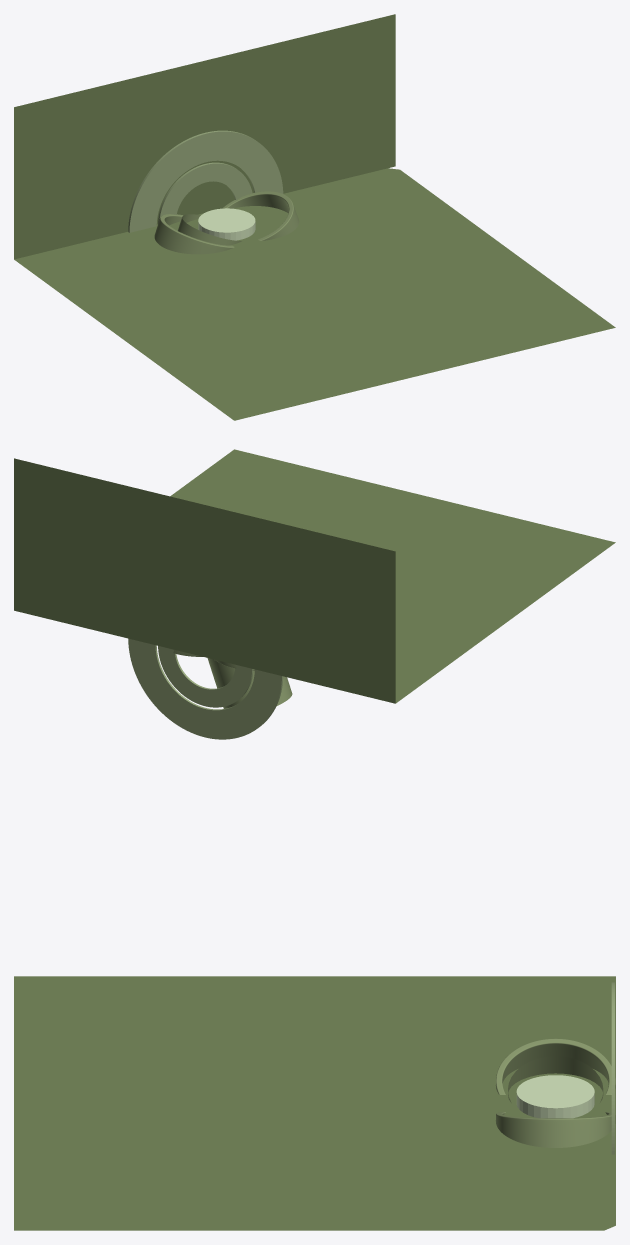
File: studio_24.glb
3 renders of one model, top to bottom at view 1: azimuth 30°, elevation 25°; view 2: azimuth 150°, elevation 25°; view 3: azimuth 270°, elevation 25°, orthographic. The views are drawn at different scales.
Parts seen in each view (by area): view 1: Plane.001, Plane, Circle, Cylinder, Circle.001, Cylinder.002, Cylinder.001; view 2: Plane, Plane.001, Circle, Circle.001, Cylinder.001; view 3: Plane.001, Cylinder, Cylinder.002, Cylinder.001, Circle.
Part boxes in pixels (left/top/right/bottom): Plane.001: left=14, top=168, right=615, bottom=420; Plane: left=14, top=14, right=395, bottom=259; Circle: left=128, top=130, right=283, bottom=232; Cylinder: left=154, top=191, right=299, bottom=254; Circle.001: left=158, top=162, right=252, bottom=223; Cylinder.002: left=198, top=208, right=255, bottom=240; Cylinder.001: left=178, top=214, right=241, bottom=245; Plane: left=14, top=458, right=395, bottom=703; Plane.001: left=170, top=449, right=615, bottom=703; Circle: left=128, top=638, right=283, bottom=739; Circle.001: left=158, top=646, right=253, bottom=707; Cylinder.001: left=207, top=658, right=292, bottom=708; Plane.001: left=14, top=976, right=615, bottom=1230; Cylinder: left=495, top=1038, right=615, bottom=1147; Cylinder.002: left=516, top=1075, right=594, bottom=1118; Cylinder.001: left=508, top=1056, right=603, bottom=1102; Circle: left=611, top=982, right=614, bottom=1154.
Bounding box in the file's own units: 10 × 5.83 × 10.
